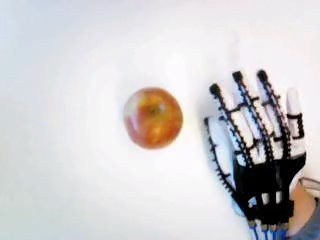apple: (123, 87, 180, 147)
hand: (203, 68, 306, 230)
